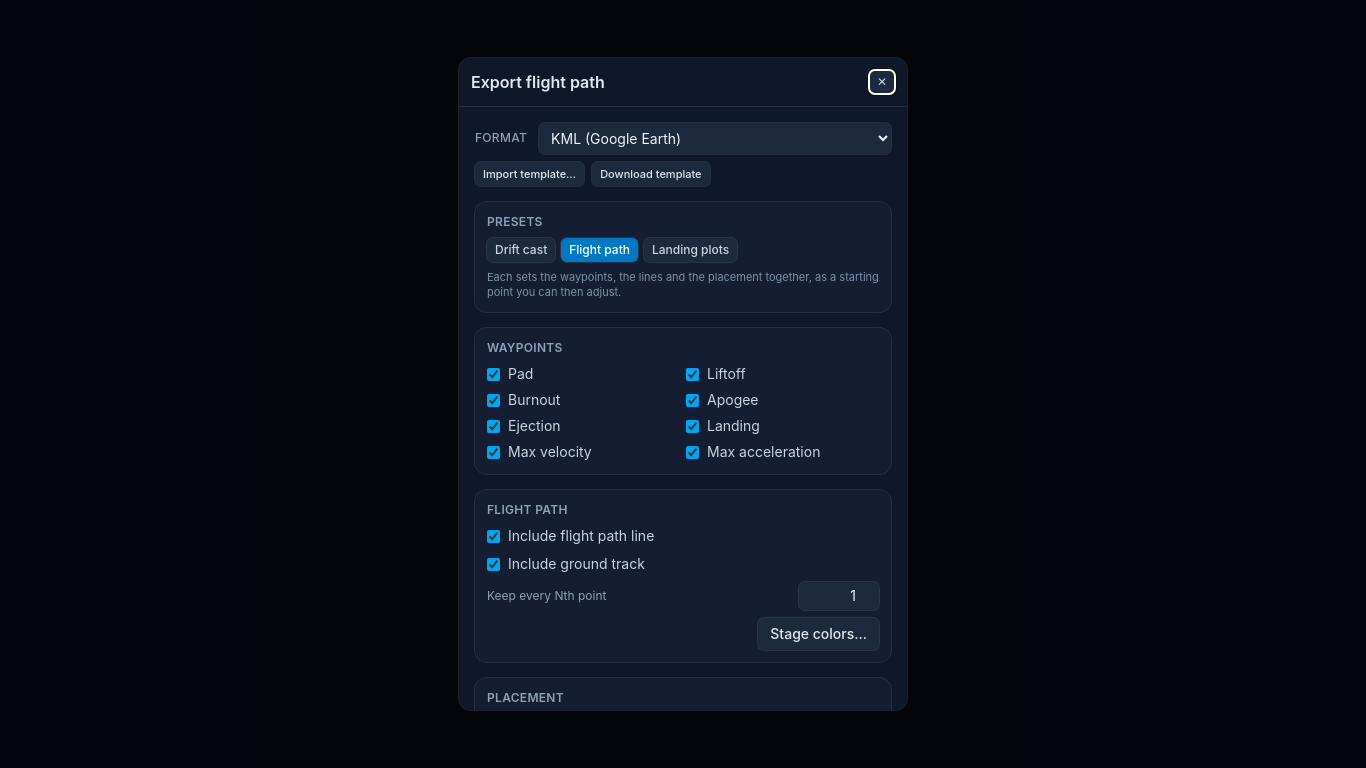
Test: flight-path export dialog › leaves the shadow off for every placement
What coordinates should you click on to do the following:
click the button "Drift cast"
I would click on:
 (521, 250)
Its box is [487,238,555,262].
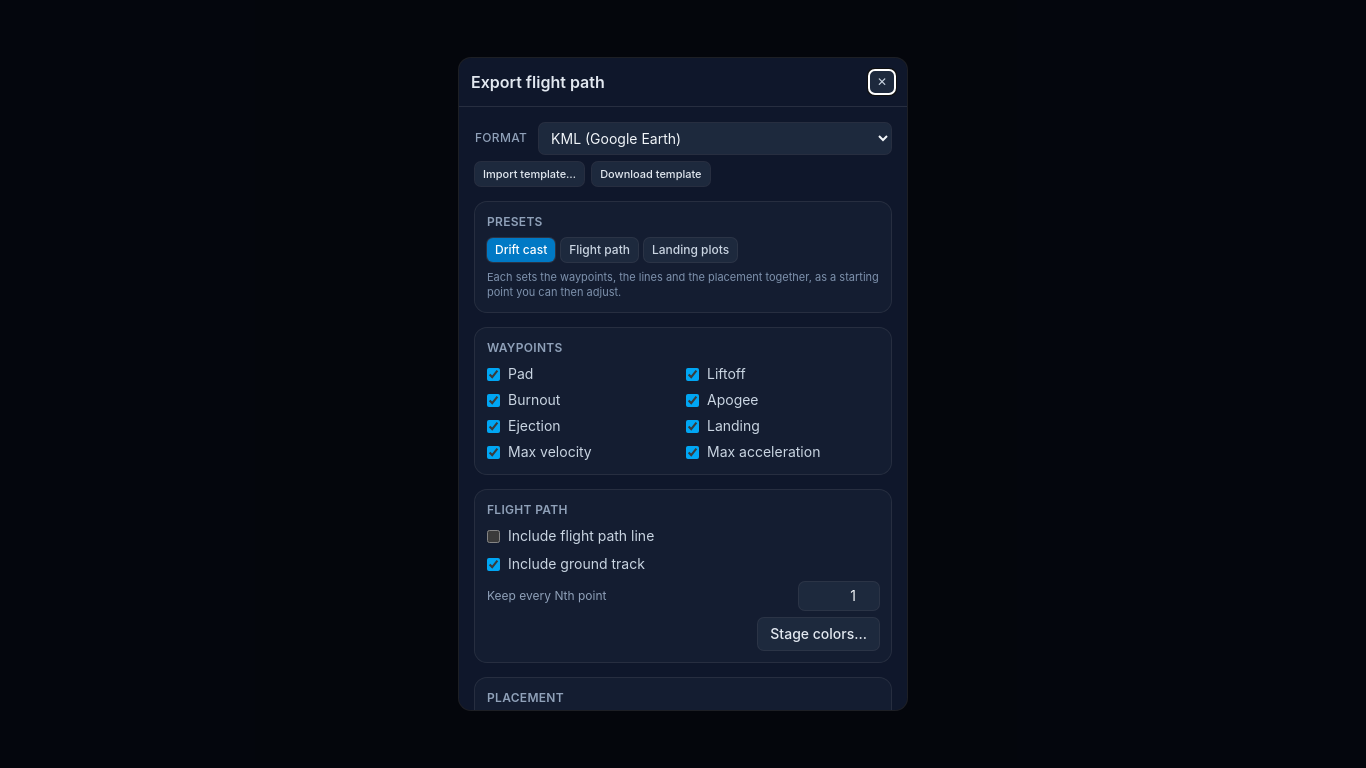
What coordinates should you click on to do the following:
click the button "Flight path"
I would click on:
 (600, 250)
Its box is [561,238,638,262].
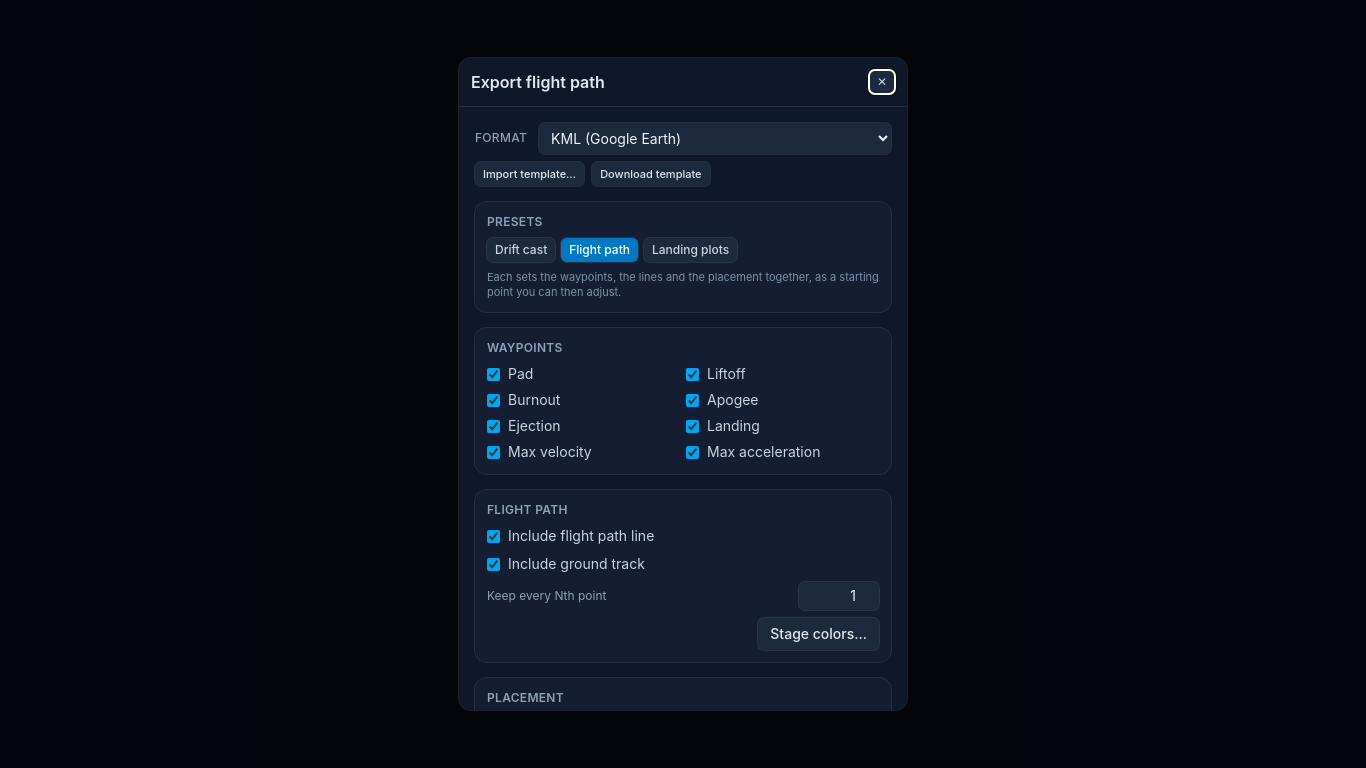
What coordinates should you click on to do the following:
click the button "Landing plots"
I would click on:
 (691, 250)
Its box is [644,238,737,262].
(page scrolled)
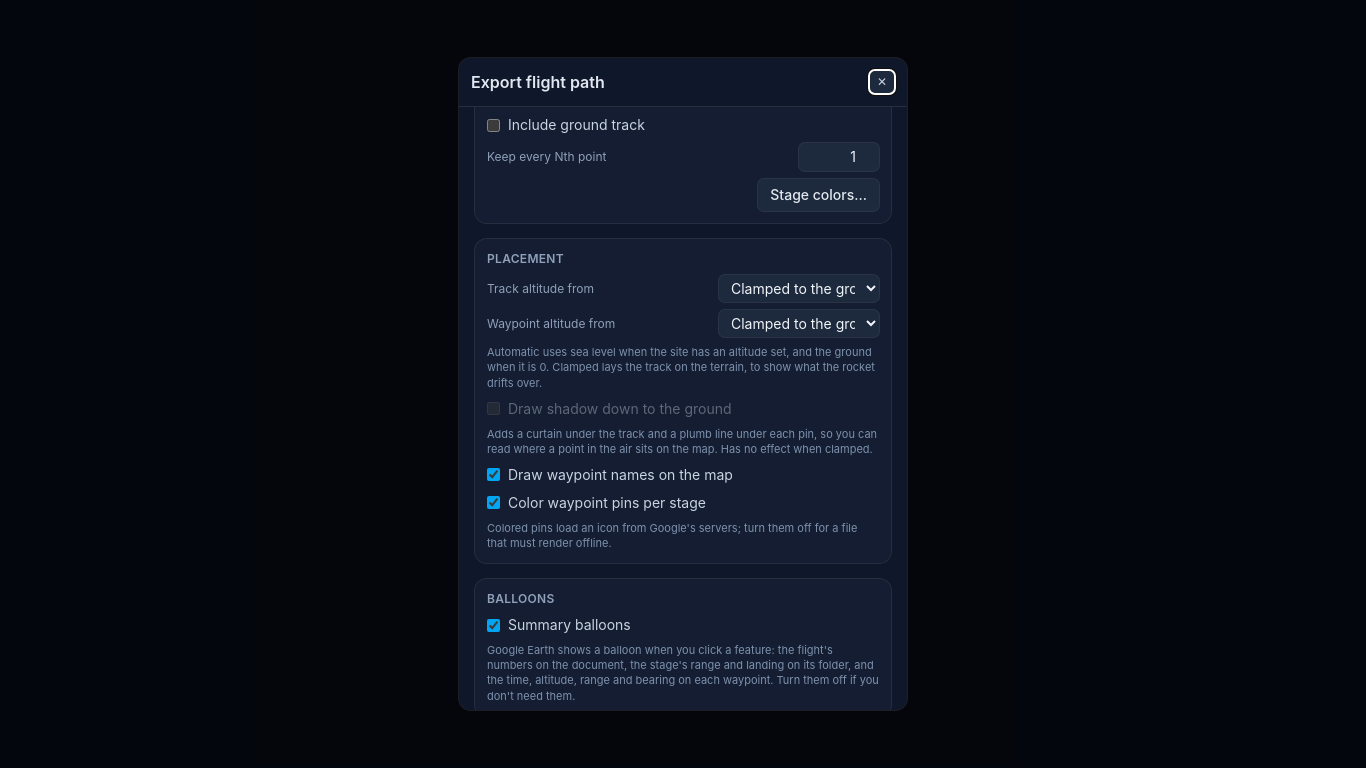
Check: the checkbox labelled "Draw shadow down to the ground" is not checked, box [487,402,500,415]
